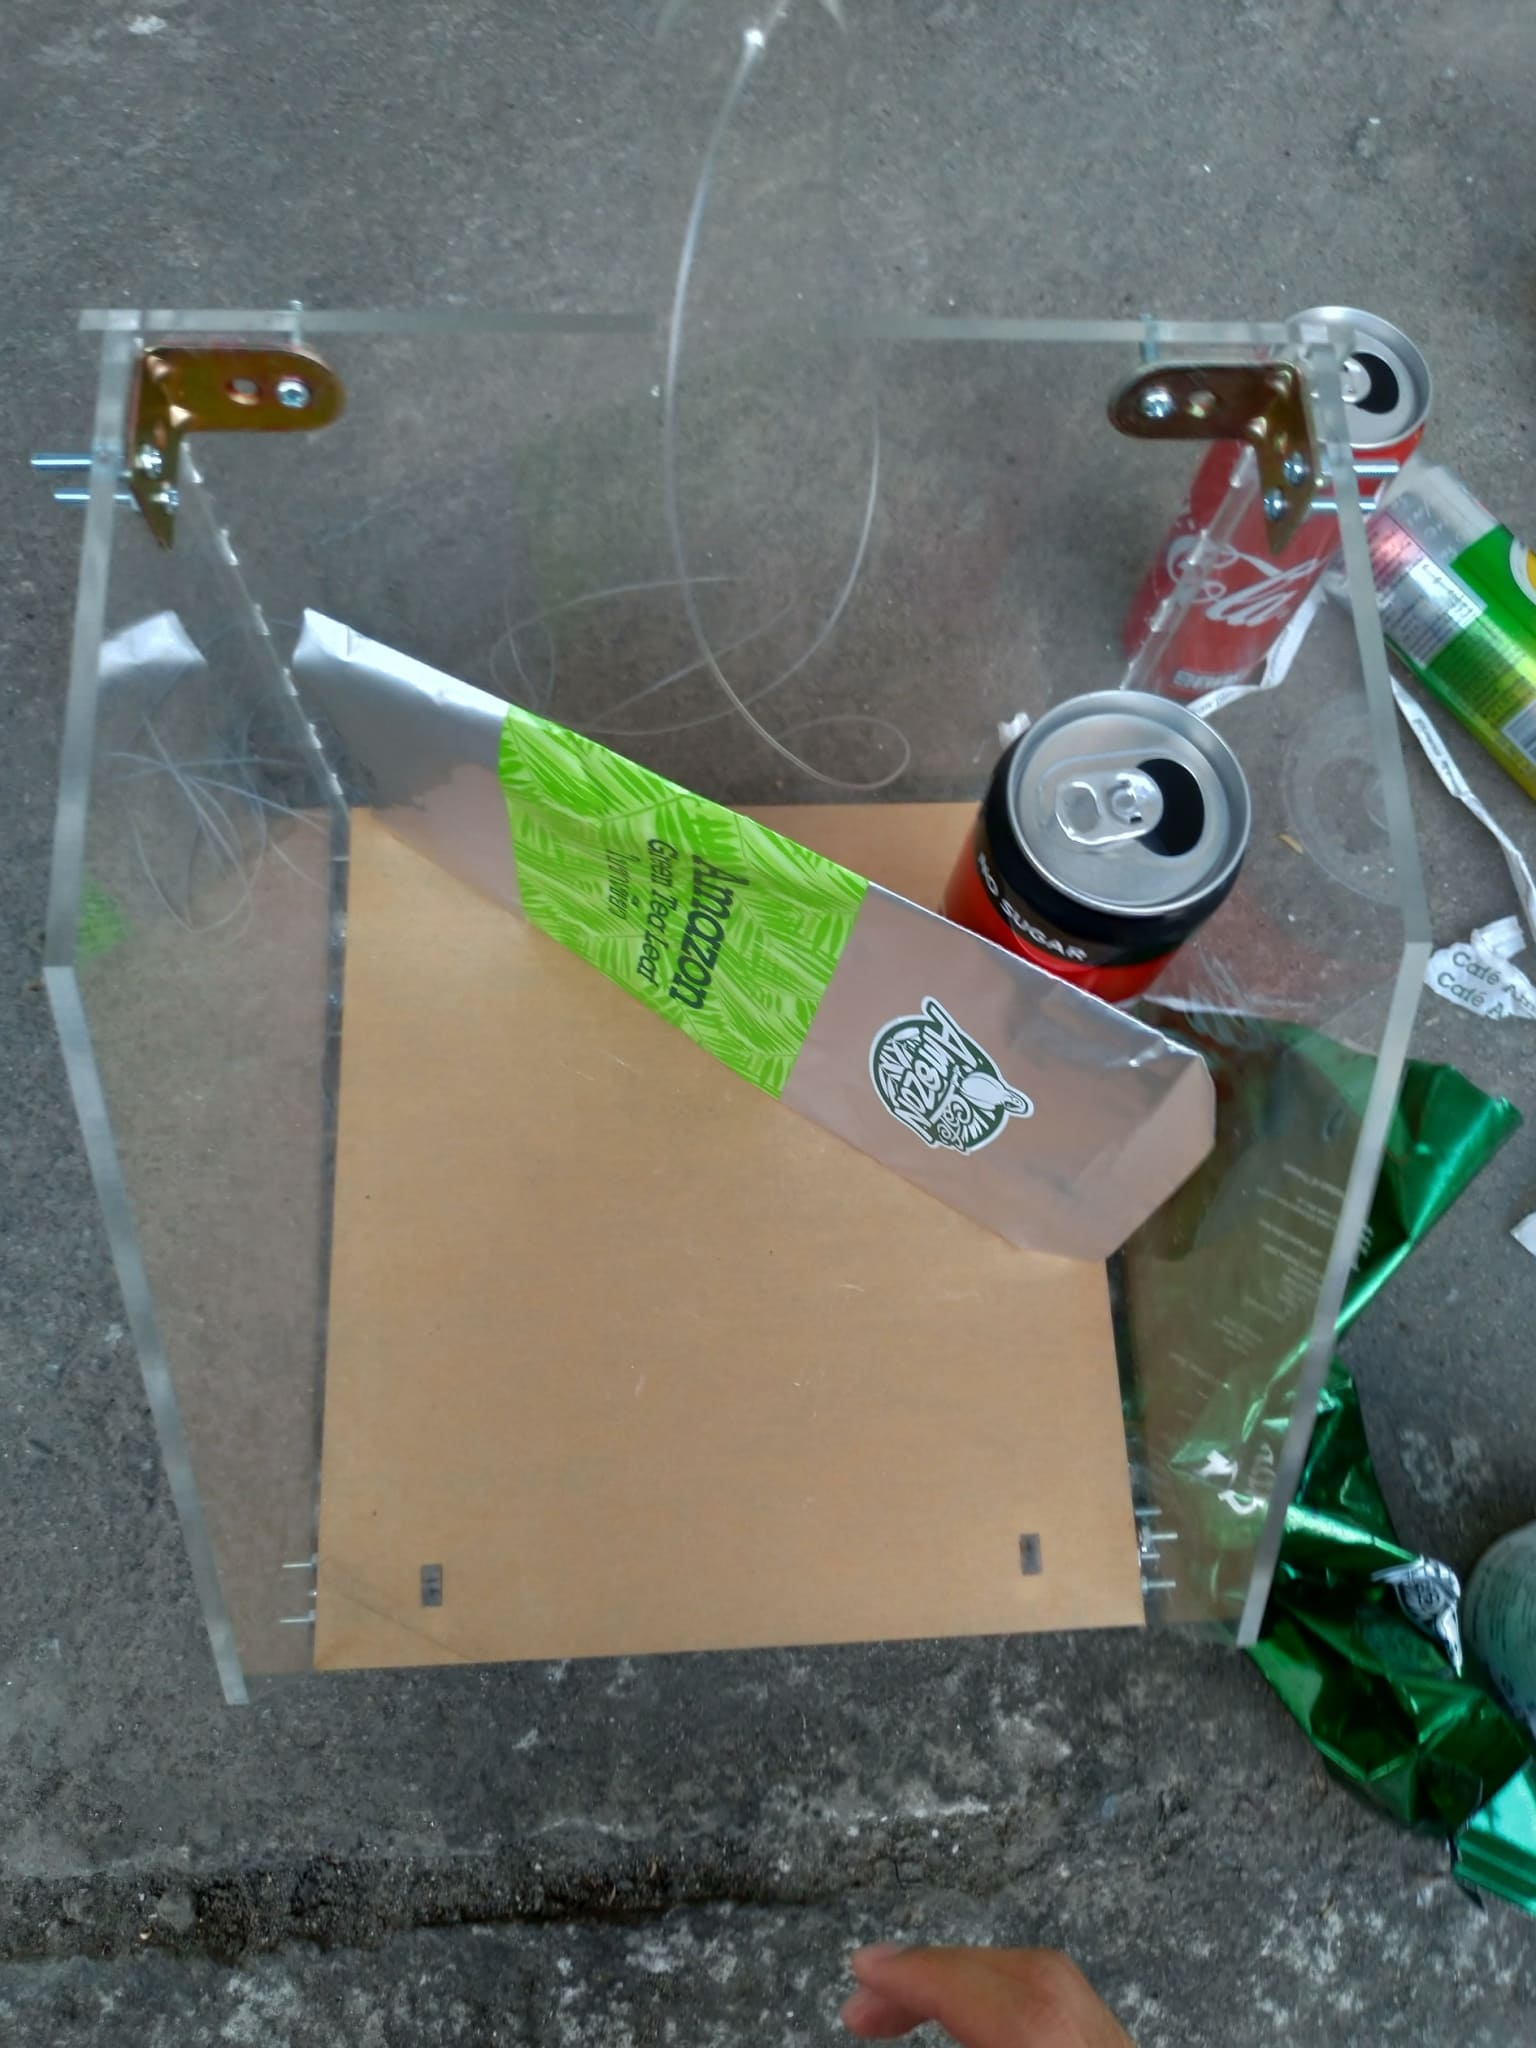AlCan: (1134, 318, 1441, 695), (950, 689, 1244, 1022), (1341, 461, 1536, 777)
Others: (294, 614, 1217, 1266), (1091, 998, 1533, 1904)
